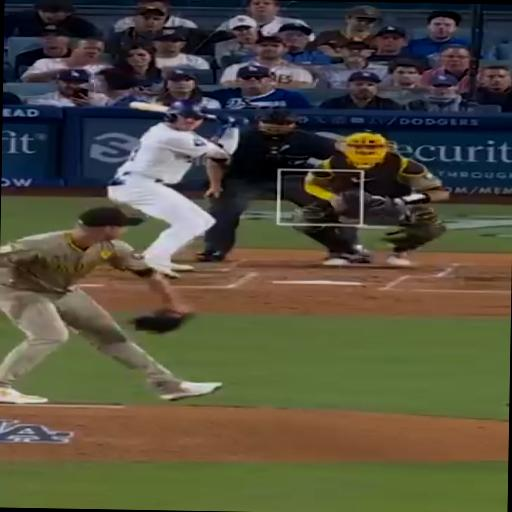bat: (130, 102, 169, 112)
